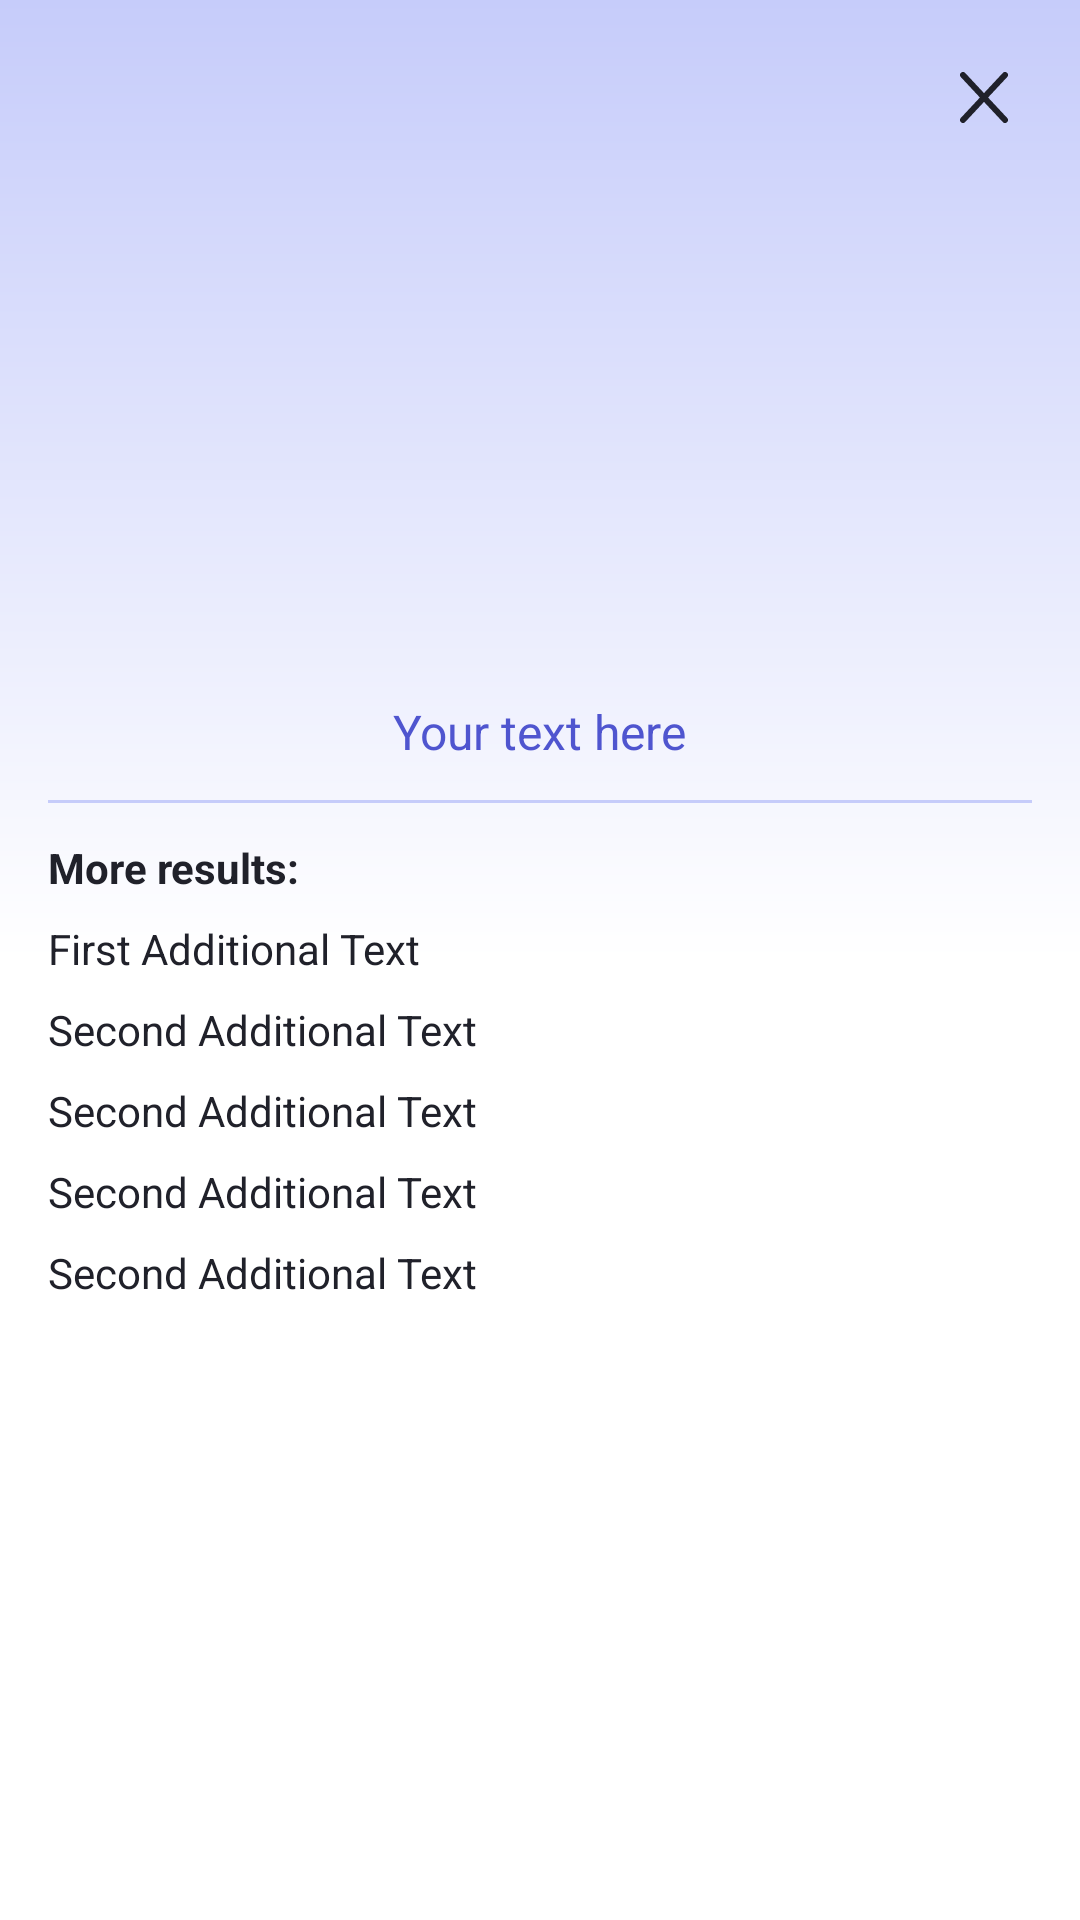

Where icons sit on this 1080 x 1920 app screen, as rect(x1, y1, x2, y2):
close: rect(960, 72, 1008, 123)
